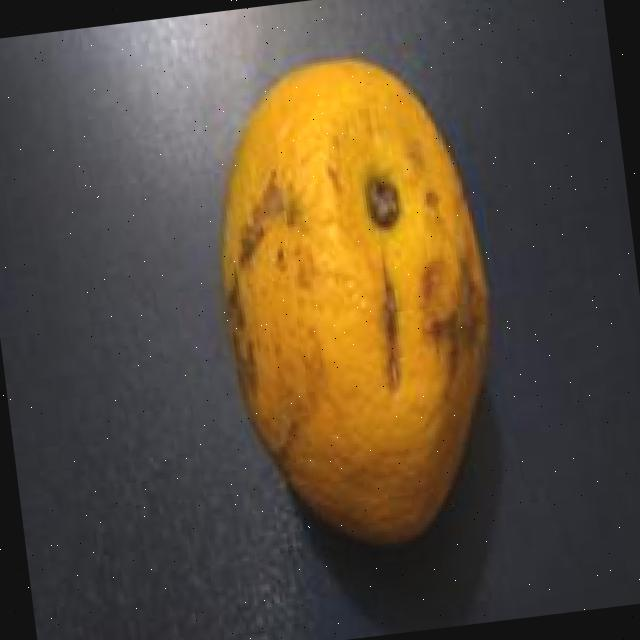overripe: (187, 34, 521, 568)
